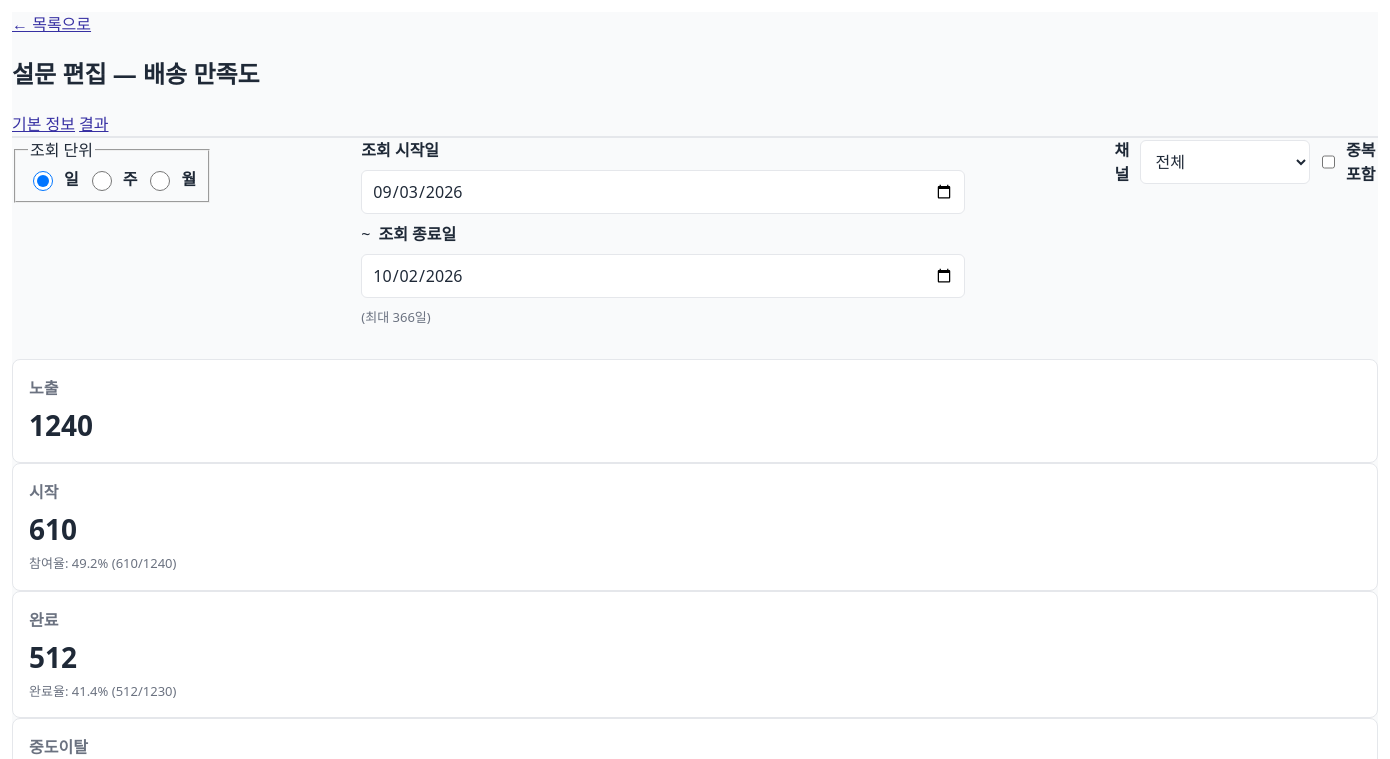
Scenario: SurveyResultsPage › 요약 재조회가 실패해도 직전 카드 값은 유지된 채 오류 배너만 함께 뜬다
Check: the text "1240" is shown, box [29,406,93,444]
Click the radio button labelled "주" at (102, 181), box [92,171,112,191]
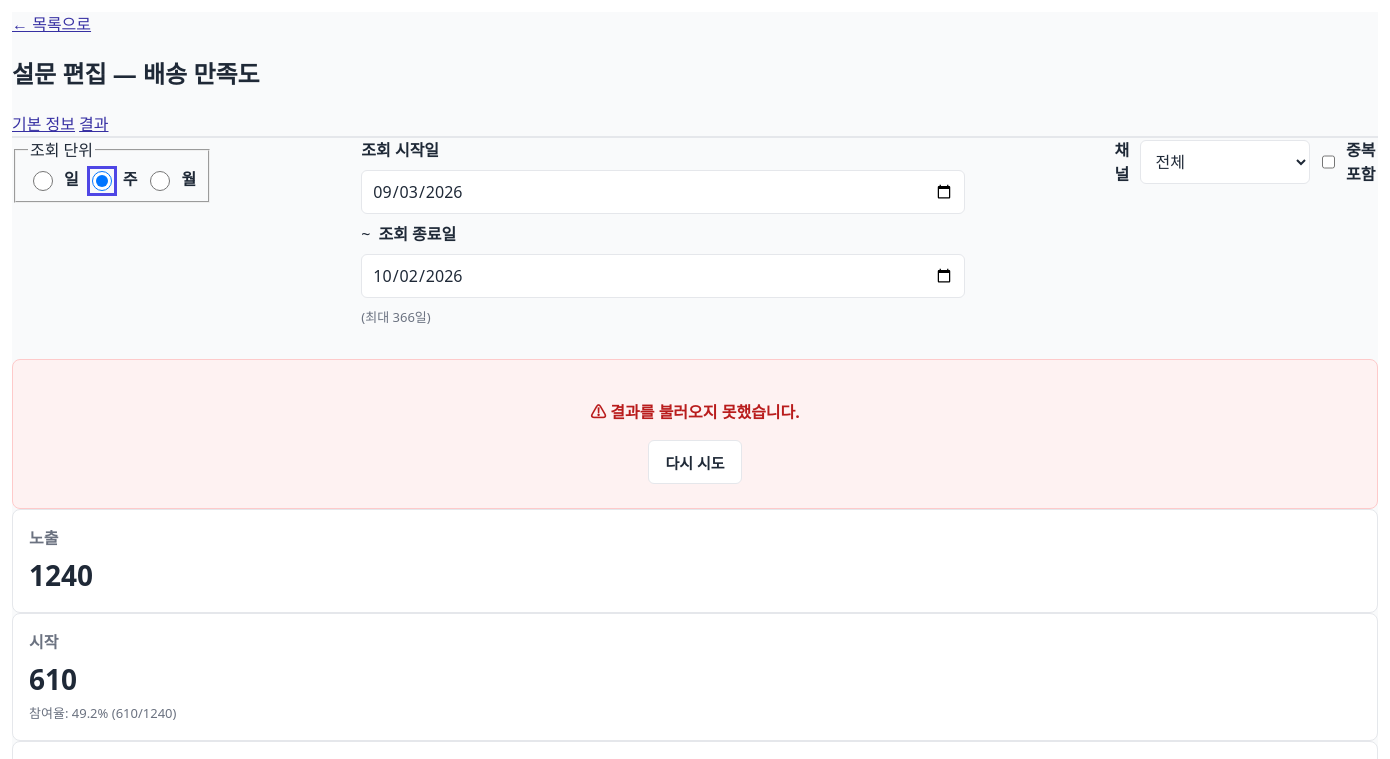
Check: the text "1240" is shown, box [29,556,93,594]
Check: the text "결과를 불러오지 못했습니다." is shown, box [610,401,800,423]
